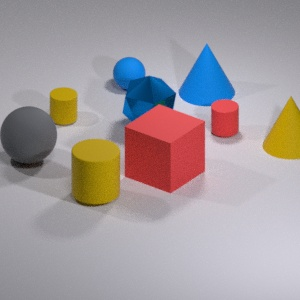lapphuong: (118, 103, 207, 194)
lucgiac: (123, 74, 174, 122)
non: (175, 43, 238, 106), (261, 91, 300, 164)
tron: (1, 102, 57, 167), (111, 51, 146, 90)
tru: (68, 135, 120, 207), (211, 97, 241, 141), (48, 86, 81, 124)
